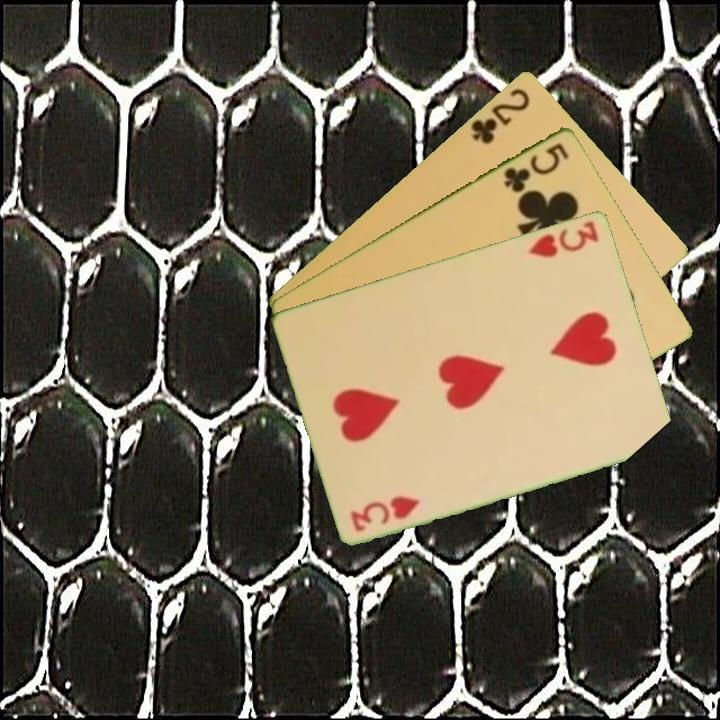2c: (467, 84, 533, 147)
3h: (525, 217, 602, 260), (347, 492, 423, 534)
5c: (500, 138, 572, 195)
